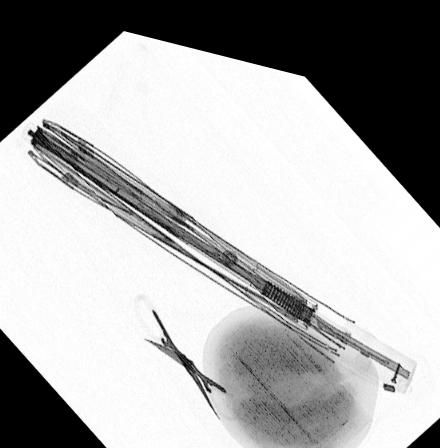Scissors: (129, 286, 244, 411)
